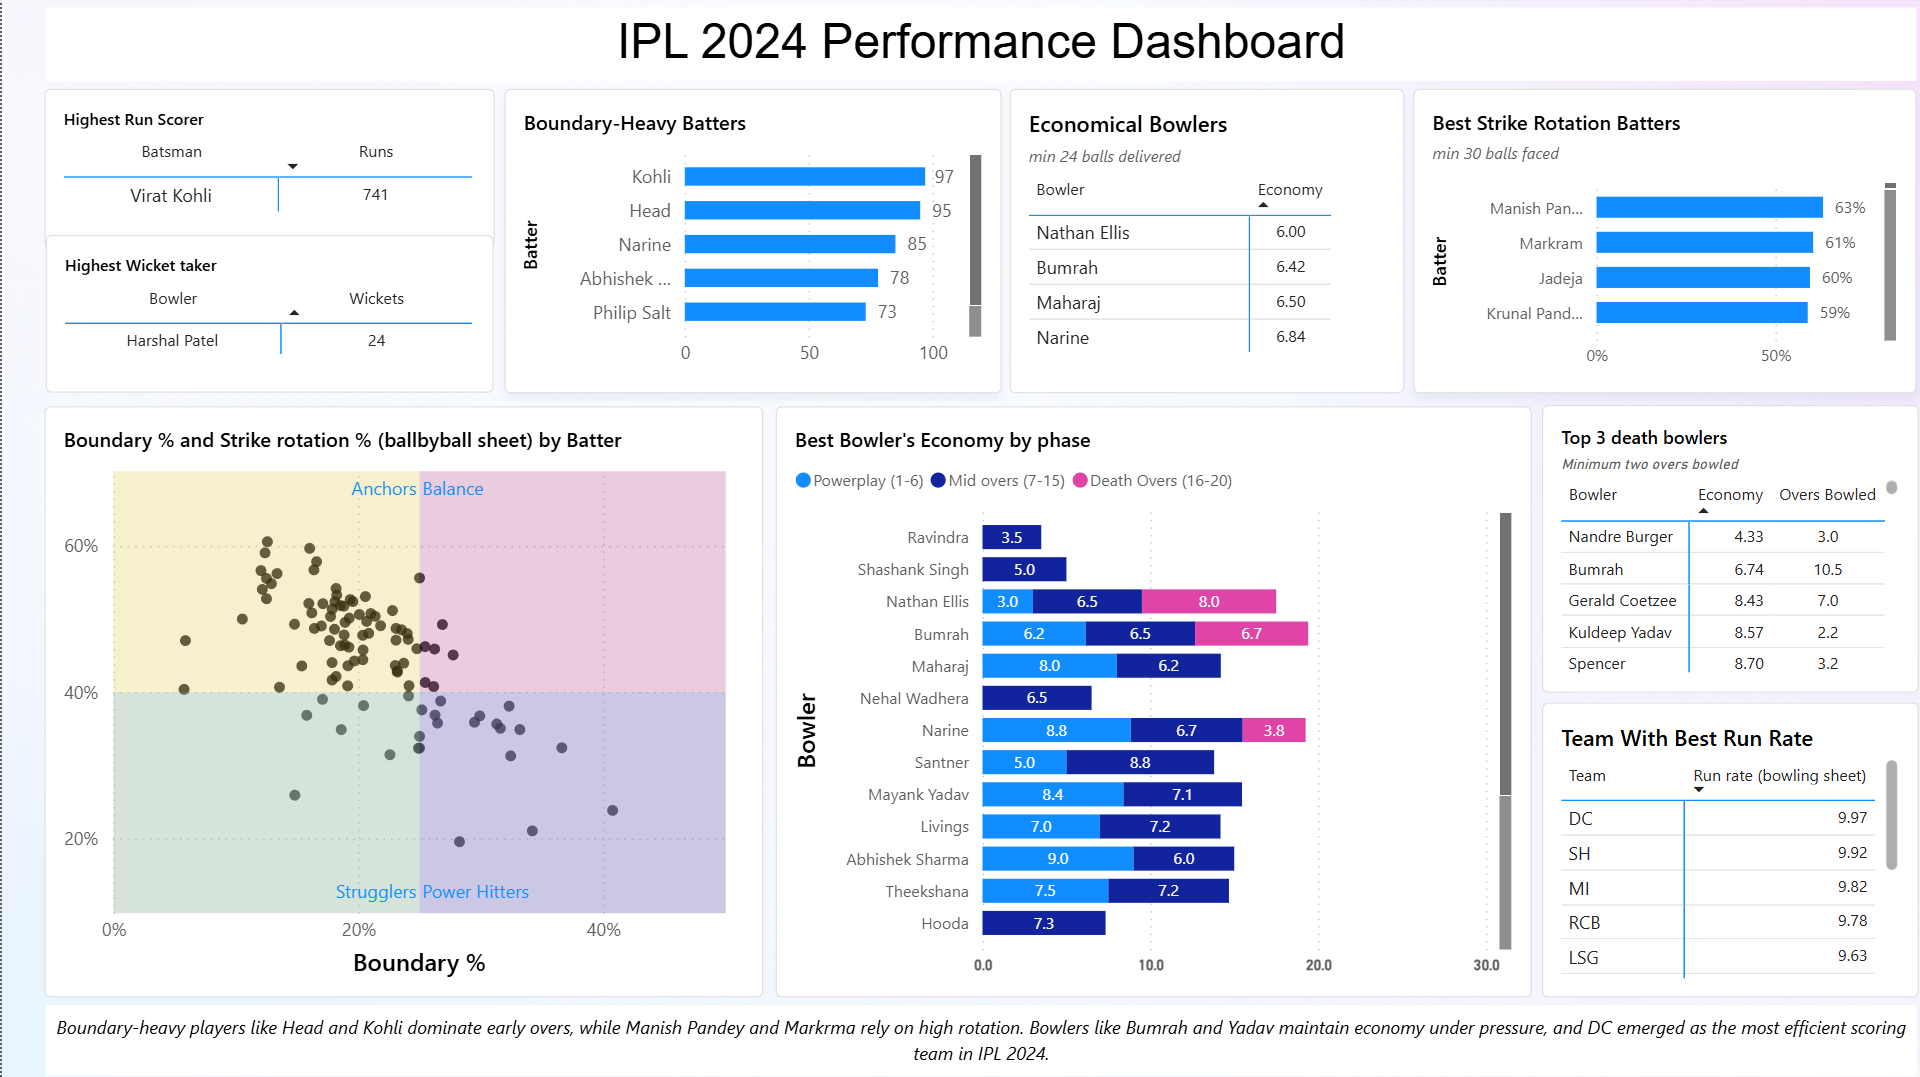

The page's visual inventory and layout, read from the dashboard file:
{"tool":"powerbi","page":{"name":"Page 1","canvas":[1280,720],"ordinal":0},"visuals":[{"type":"pivotTable","title":"Highest Run Scorer","fields":{"Rows":["batting_df.Batsman"],"Values":["batting_df.Runs"]},"box":[27.9,59.3,299.3,106.4],"z":0},{"type":"pivotTable","title":"Highest Wicket taker","fields":{"Rows":["bowling_df.Bowler"],"Values":["bowling_df.Wickets"]},"box":[29.3,156.4,297.9,105],"z":1000},{"type":"pivotTable","title":"Team With Best Run Rate","fields":{"Rows":["bowling_df.Team"],"Values":["Measures (2).Run rate"]},"box":[1023.1,466.5,250,196.1],"z":2000},{"type":"scatterChart","fields":{"X":["Measures (2).Boundry %"],"Y":["Measures (2).Strike rotation %"],"Category":["ball_by_ball_data.Batter"]},"box":[27.9,270,477.9,392.9],"z":3000},{"type":"barChart","title":"Best Bowler''s Economy by phase","fields":{"Category":["ball_by_ball_data.Bowler"],"Y":["Measures (2).Bowler's Economy"],"Series":["ball_by_ball_data.Over Group"]},"box":[514.3,270,502.1,392.9],"z":4000},{"type":"textbox","box":[29.3,5,1243.6,48.6],"z":5000},{"type":"pivotTable","title":"Economical Bowlers","fields":{"Rows":["ball_by_ball_data.Bowler"],"Values":["Measures (2).Bowler's Economy"]},"box":[669.3,59.3,262.3,202.2],"z":6000},{"type":"clusteredBarChart","title":"Boundary-Heavy Batters","fields":{"Y":["Measures (2).Boundry Count"],"Category":["ball_by_ball_data.Batter"]},"box":[333.6,59.3,330,202.1],"z":7000},{"type":"barChart","title":"Best Strike Rotation Batters","fields":{"Category":["ball_by_ball_data.Batter"],"Y":["Measures (2).Strike rotation %"]},"box":[937.9,59.3,334.3,202.1],"z":8000},{"type":"pivotTable","title":"Top 3 death bowlers","fields":{"Values":["Measures (2).Bowler's Economy","Measures (2).Total overs (ballbyball sheet)"],"Rows":["ball_by_ball_data.Bowler"]},"box":[1023.1,269.5,250,190.8],"z":9000},{"type":"textbox","box":[29.3,667.9,1243.6,47.1],"z":10000}]}

Visuals, with their boxes in screenshot pixels (x1, y1, x2, y2), scaled from the page's 1280x720 canvas onto the 1920x1077 screenshot:
"Highest Run Scorer" pivotTable: bbox=[42, 89, 491, 248]
"Highest Wicket taker" pivotTable: bbox=[44, 234, 491, 391]
"Team With Best Run Rate" pivotTable: bbox=[1535, 698, 1910, 991]
scatterChart - Measures (2).Boundry % x Measures (2).Strike rotation %: bbox=[42, 404, 759, 992]
"Best Bowler''s Economy by phase" barChart: bbox=[771, 404, 1525, 992]
textbox: bbox=[44, 7, 1909, 80]
"Economical Bowlers" pivotTable: bbox=[1004, 89, 1397, 391]
"Boundary-Heavy Batters" clusteredBarChart: bbox=[500, 89, 995, 391]
"Best Strike Rotation Batters" barChart: bbox=[1407, 89, 1908, 391]
"Top 3 death bowlers" pivotTable: bbox=[1535, 403, 1910, 689]
textbox: bbox=[44, 999, 1909, 1070]
